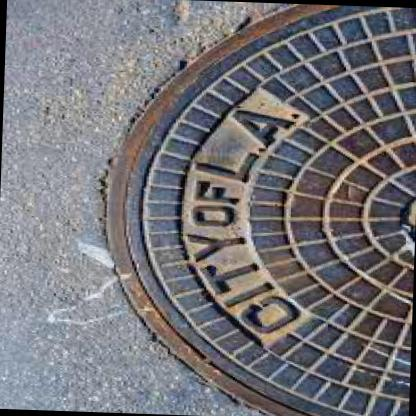manholes: (86, 0, 416, 416)
